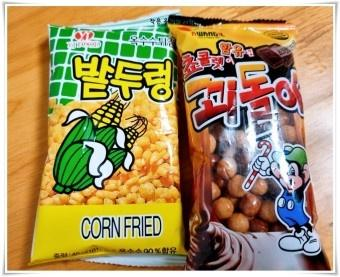snack: (167, 14, 331, 270), (27, 10, 182, 268)
